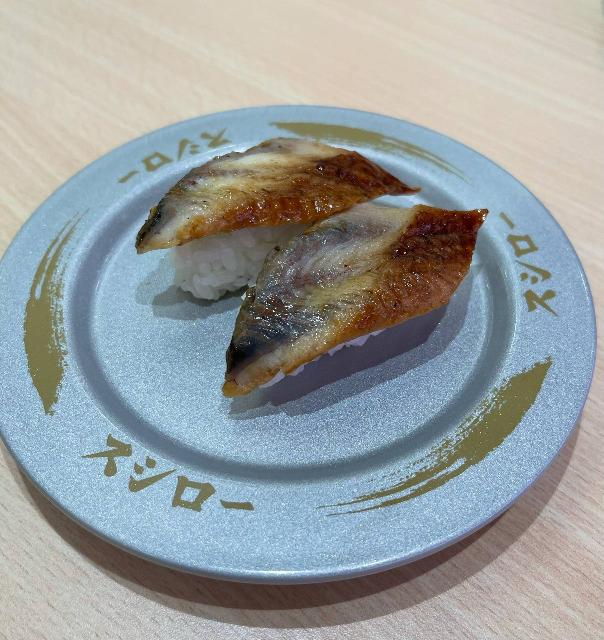janwhite: (18, 136, 556, 535)
